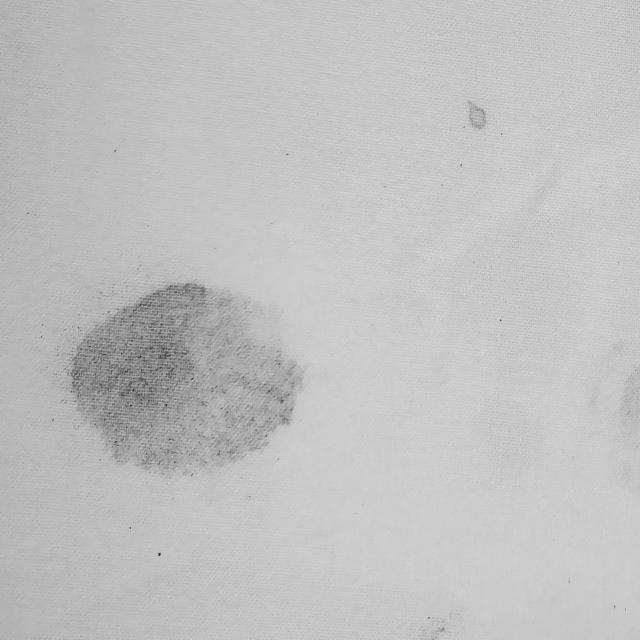Stain: (70, 283, 303, 474), (468, 100, 487, 128)
